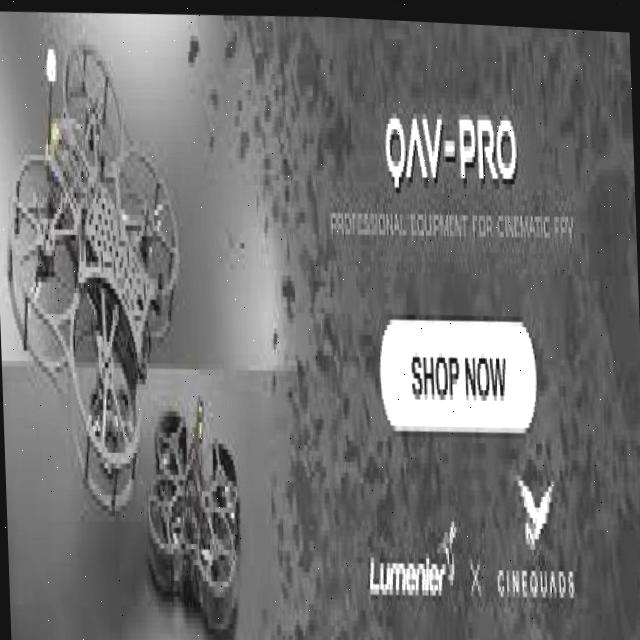drone: (0, 42, 194, 521), (140, 388, 258, 640)
